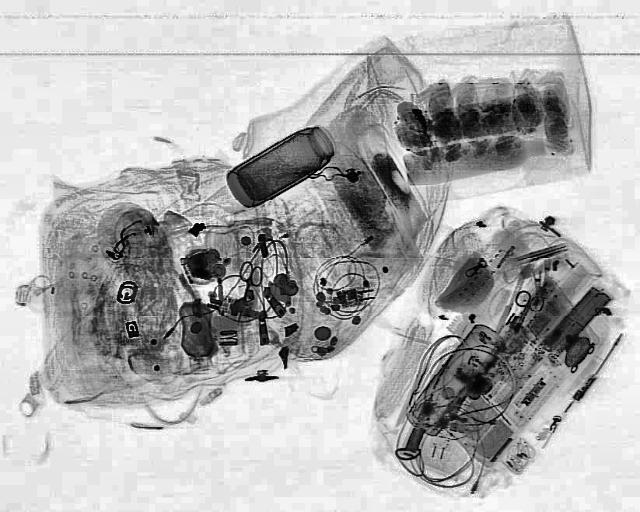Scissors: (226, 258, 266, 326)
